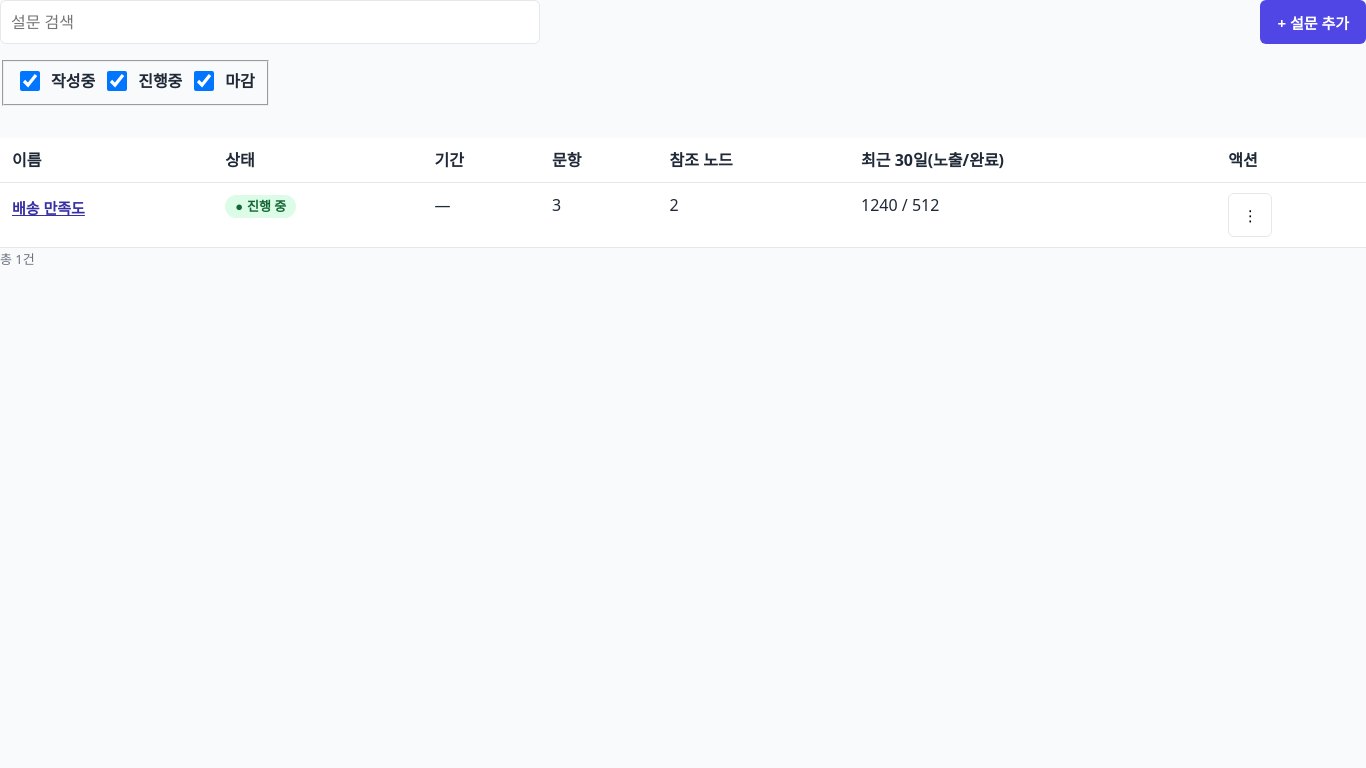
Test: SurveysListPage › 삭제가 409 SURVEY_IN_USE로 거부되면 참조 노드 안내 배너가 표시된다
The width and height of the screenshot is (1366, 768).
Expected: the button "배송 만족도" is shown, 12,193 -> 85,222
Click the button named "배송 만족도 관리": (1250, 215) 1228,193 -> 1272,237
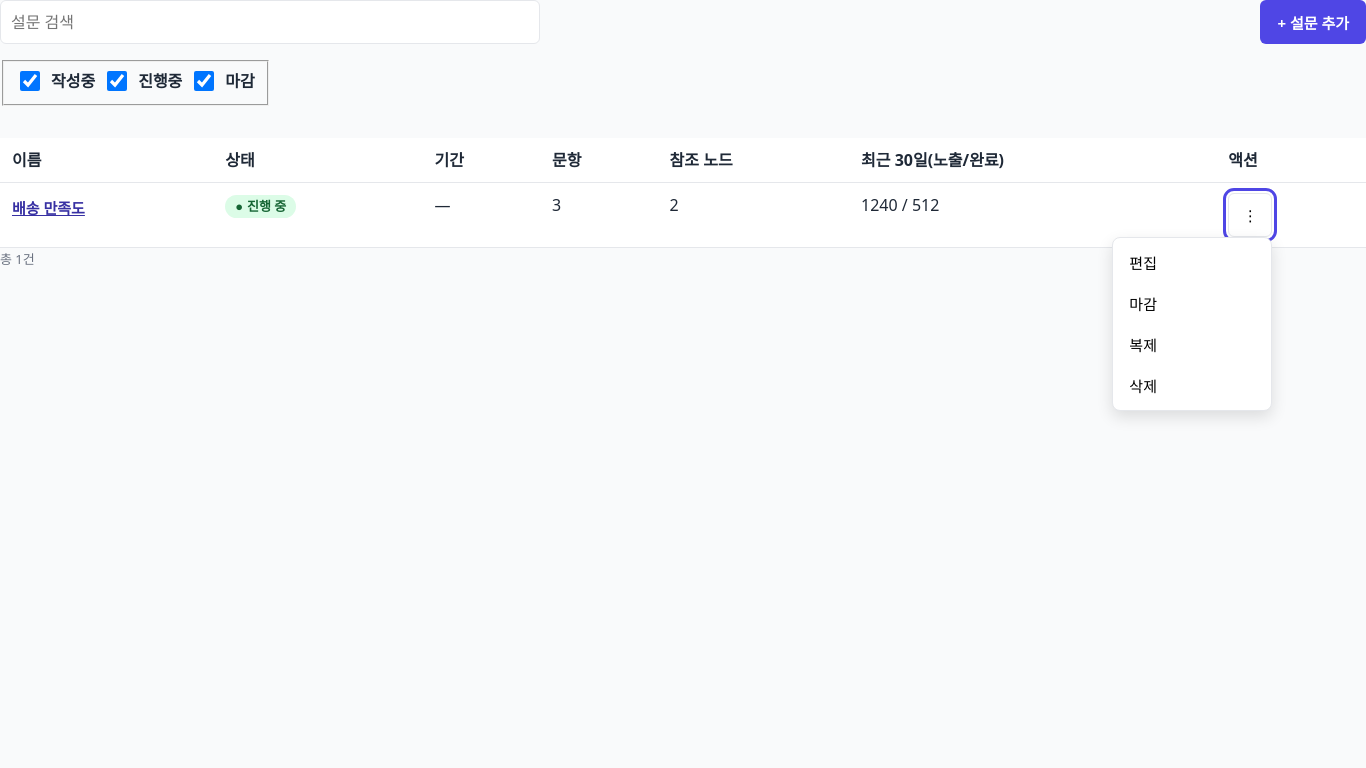
Click the menu item "삭제": (1192, 385) 1117,365 -> 1267,406
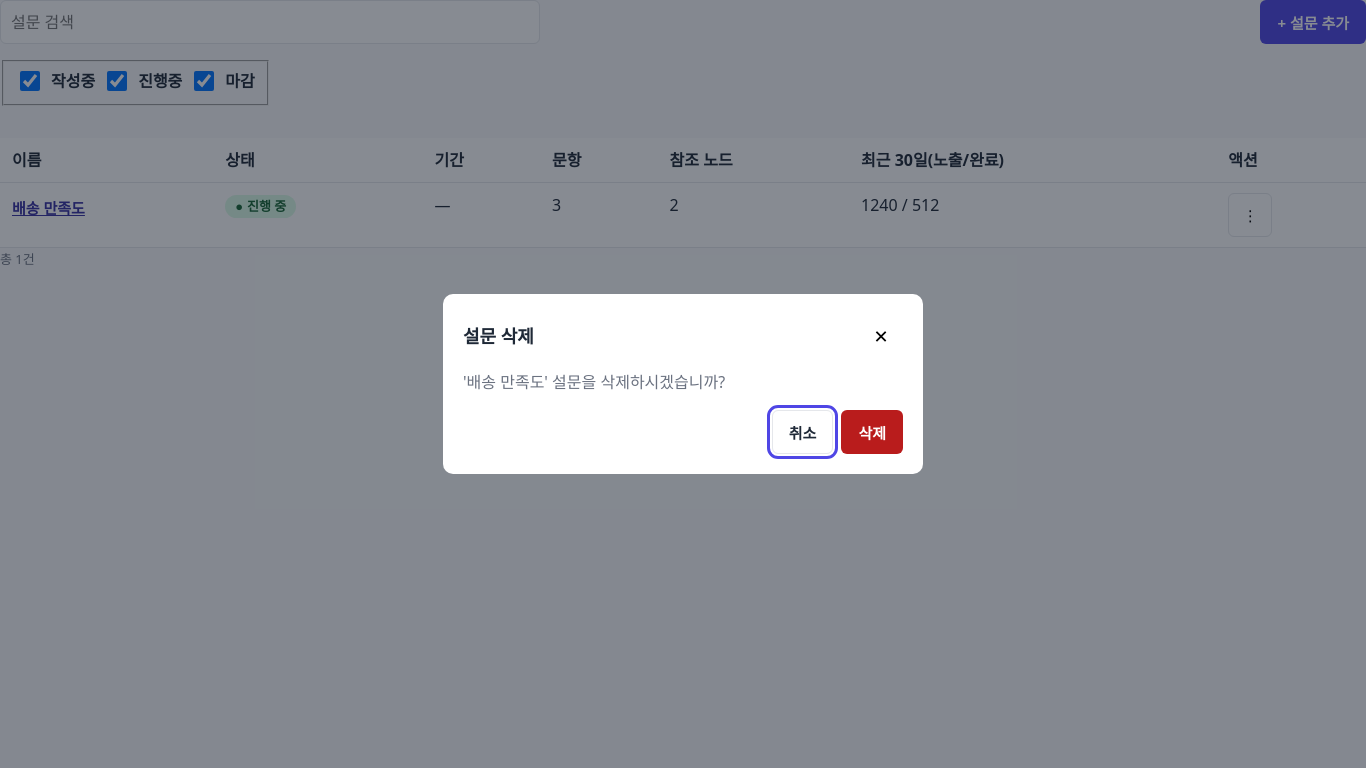
Click the button "삭제": (872, 432) 841,410 -> 903,454
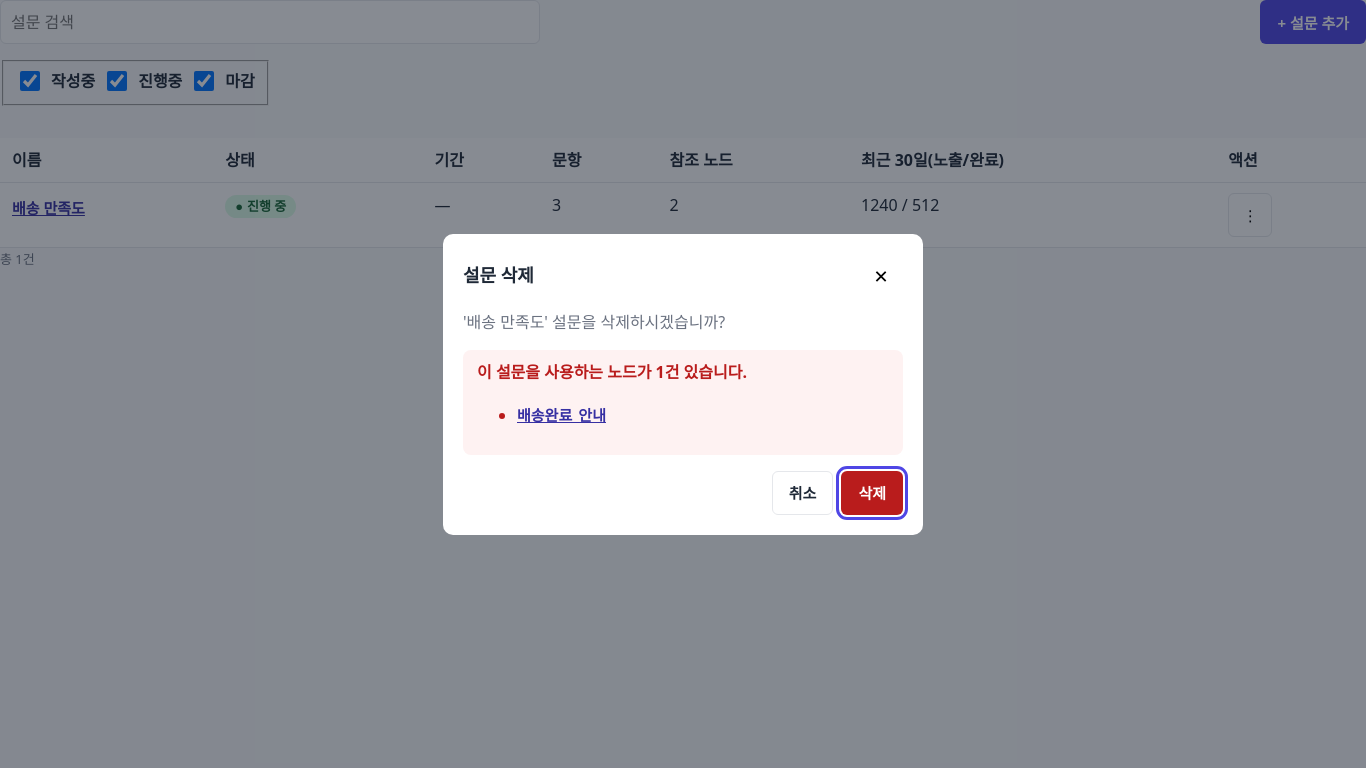
Now the text "이 설문을 사용하는 노드가 1건 있습니다. 배송완료_안내" is shown, box 463,350 -> 903,454
Now the button "배송완료_안내" is shown, box 517,400 -> 606,428
